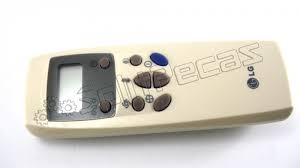remote control: (31, 39, 287, 129)
